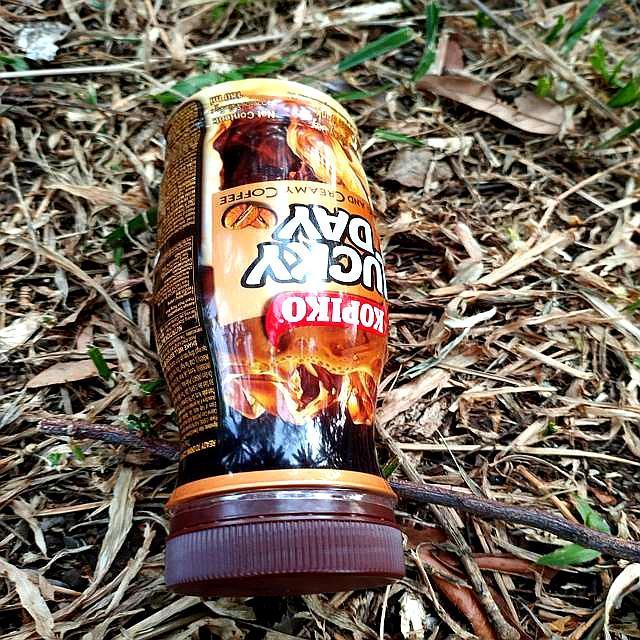Non-biodegradable: (150, 76, 407, 598)
